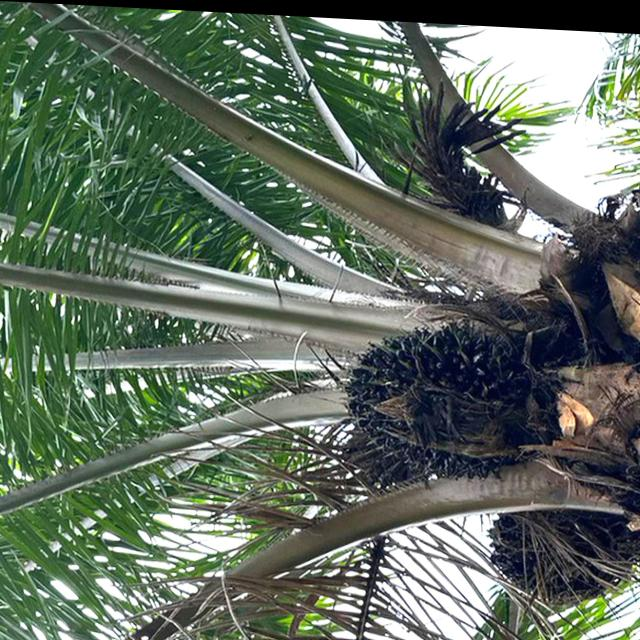unripe: (333, 303, 540, 485), (488, 493, 638, 604)
